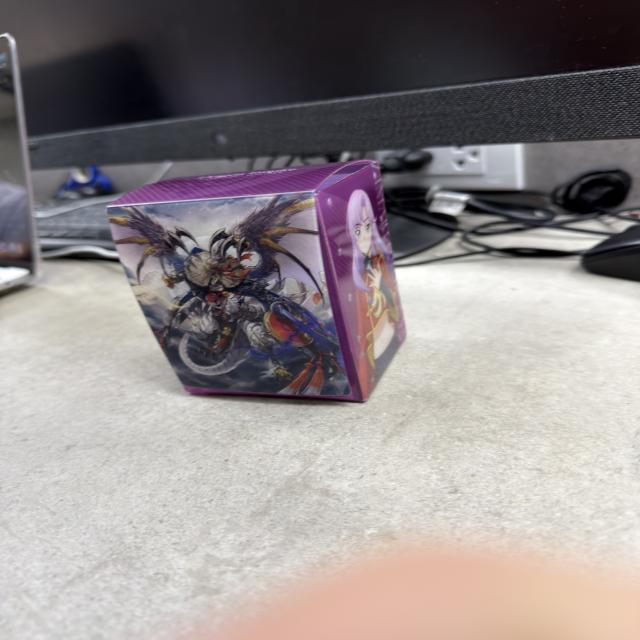box: (104, 156, 423, 410)
